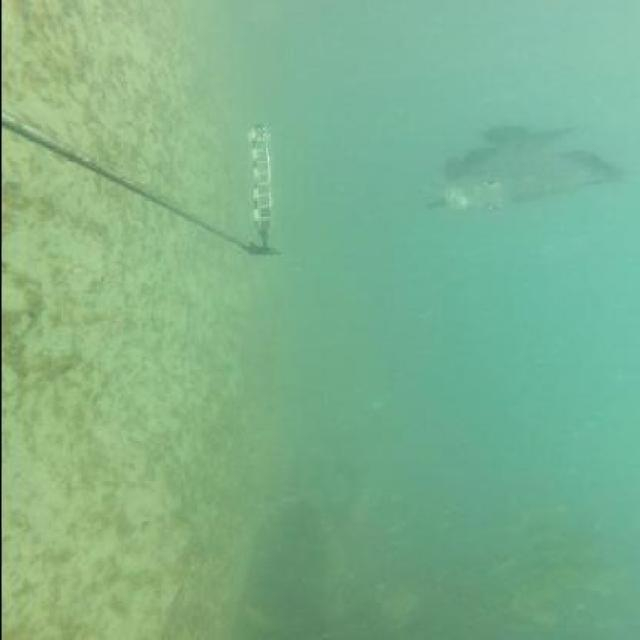acanthopagrus_palmaris: (418, 125, 624, 222)
